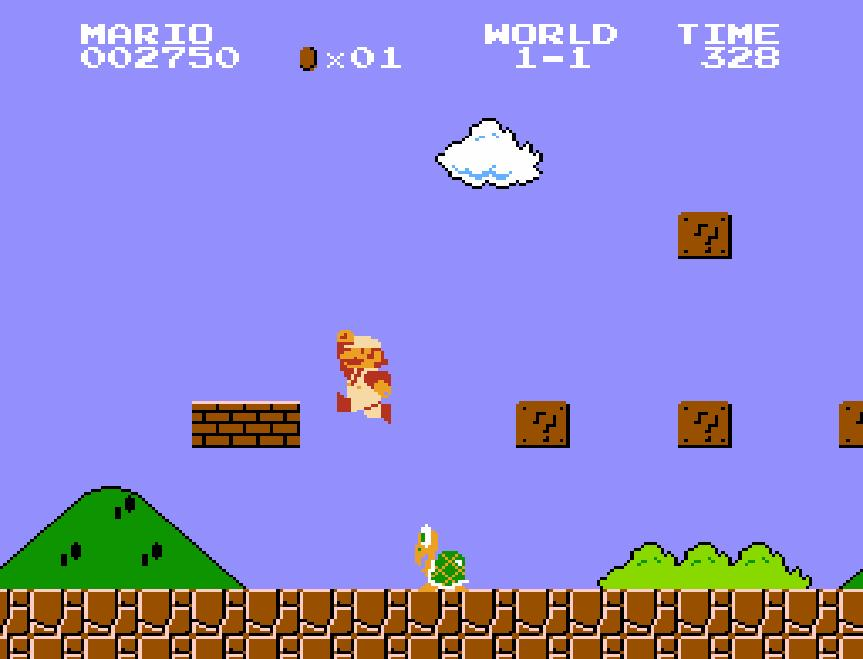fire_mario: (335, 328, 393, 426)
